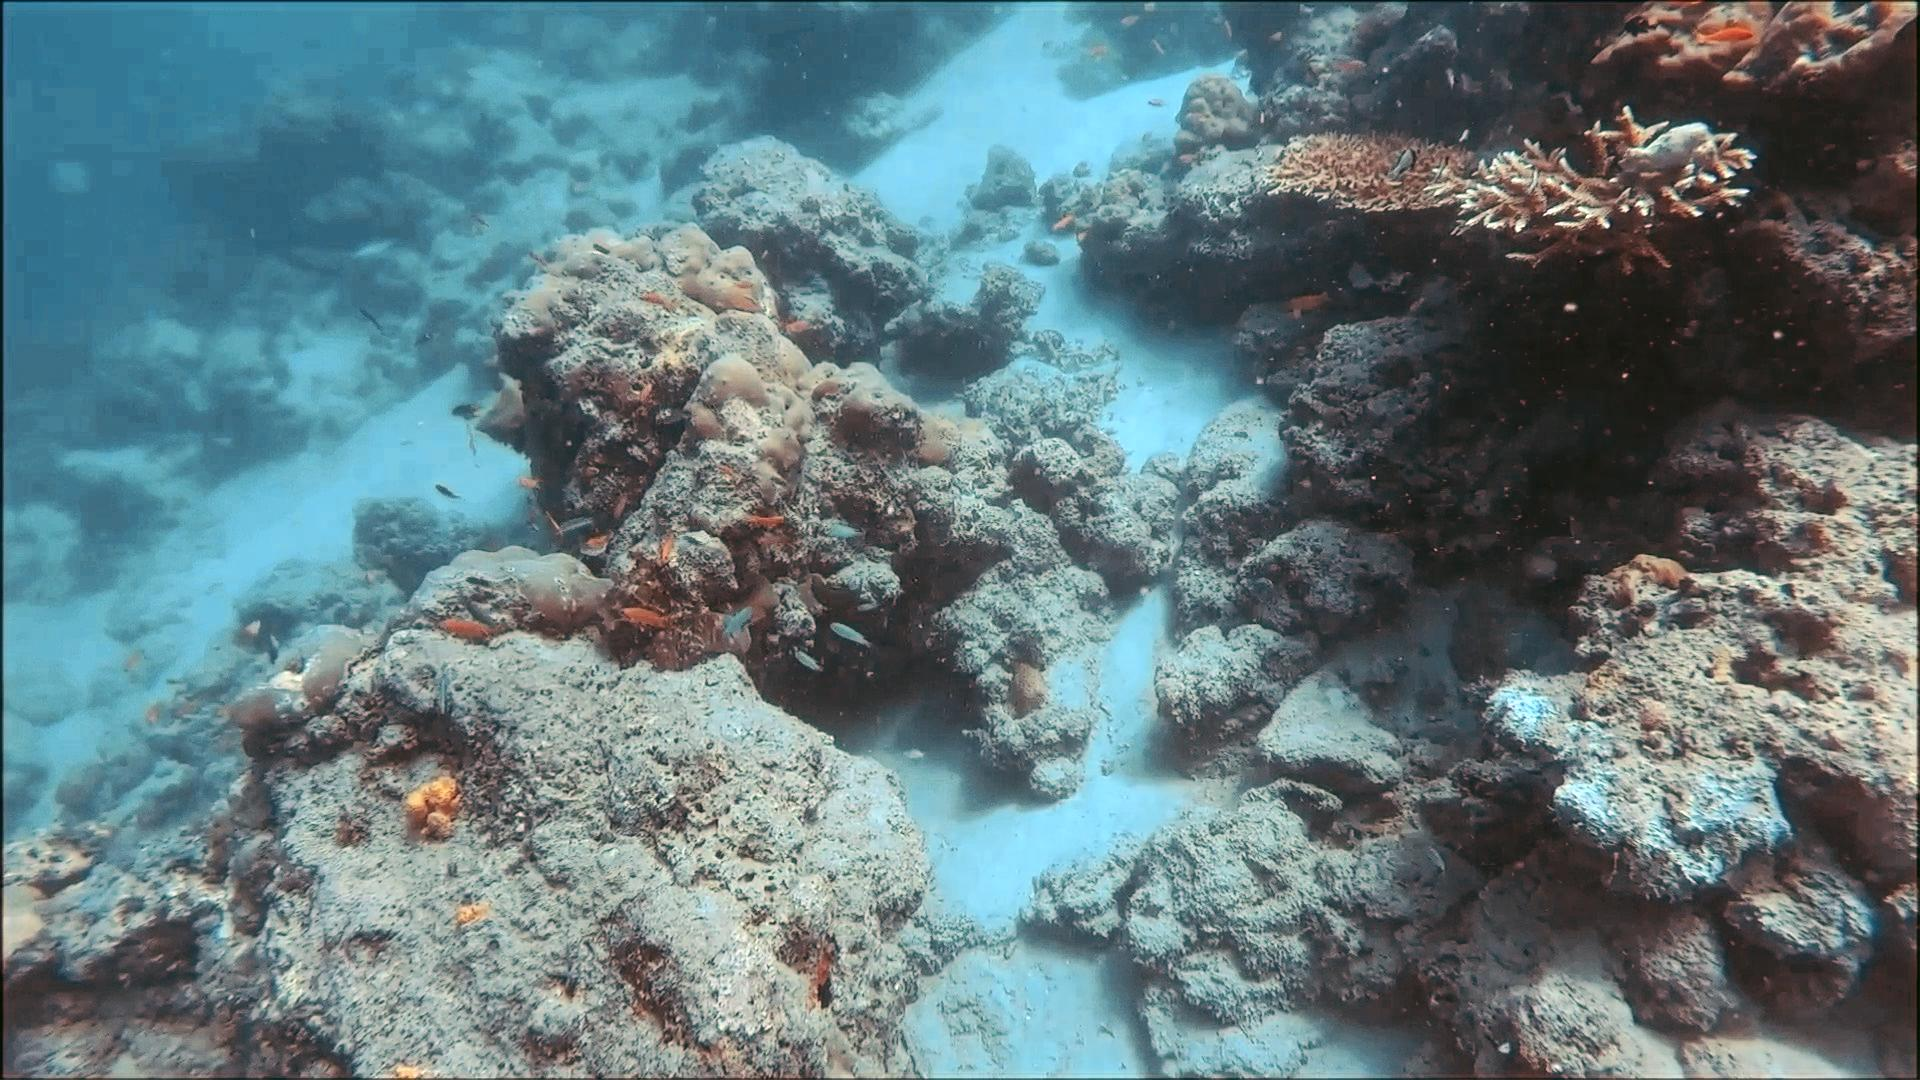Porites-Porites pukoensis: (621, 214, 851, 514)
